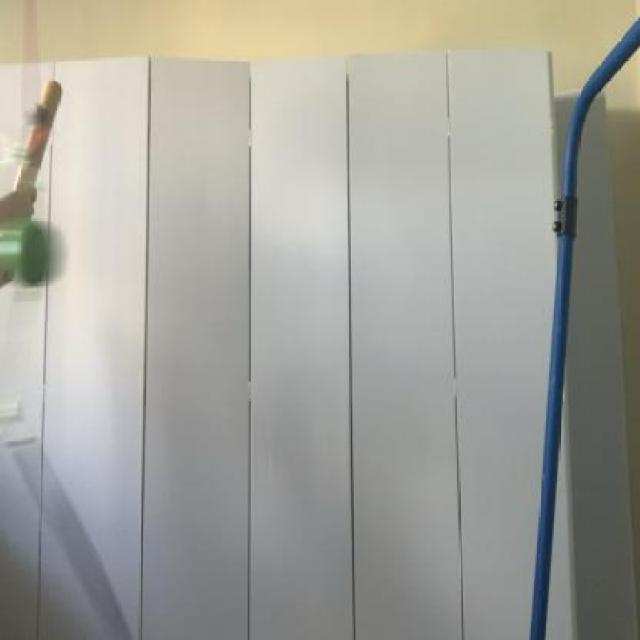baseball: (0, 194, 62, 294)
